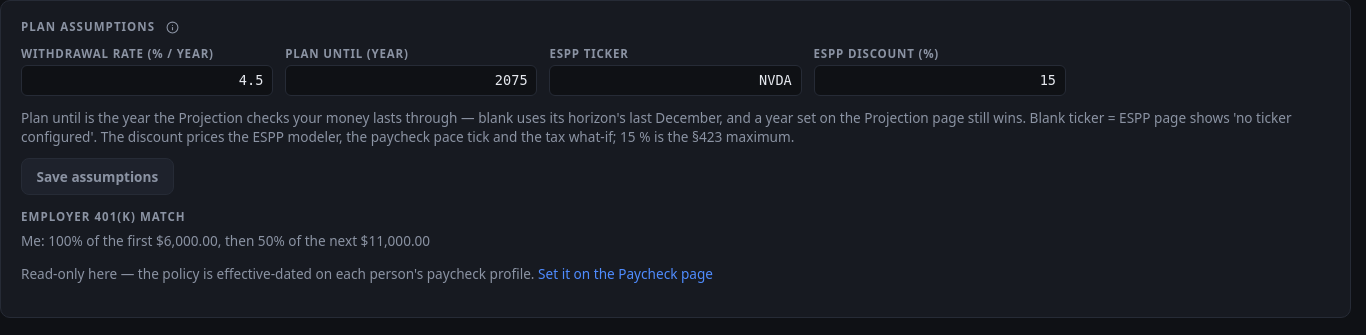
Scenario: PlanAssumptionsCard › refuses exponent text and out-of-range values without spending a request
Expected: the field labelled "ESPP ticker" is shown, [549, 65, 802, 96]
Replace the text in the field labelled "Withdrawal rate (% / year)" with "1e3". click: [147, 80]
box: [21, 65, 273, 96]
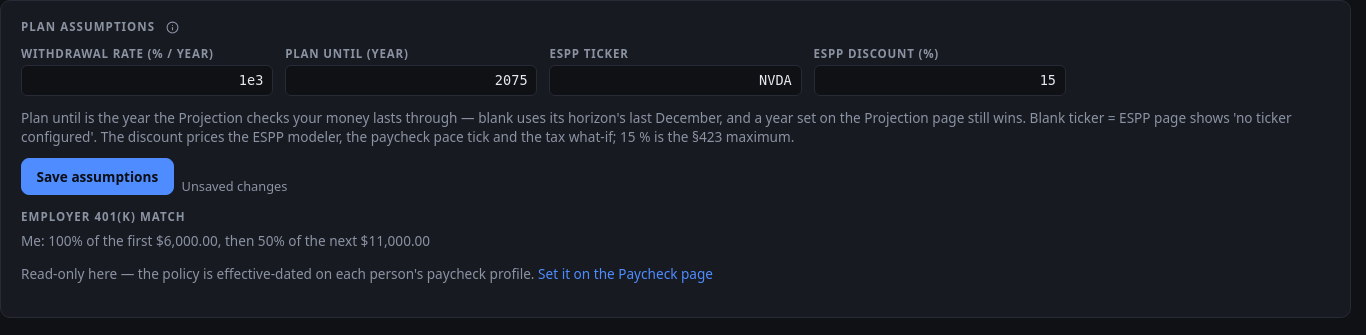
Click the button "Save assumptions". click: [97, 176]
box: [21, 158, 174, 195]
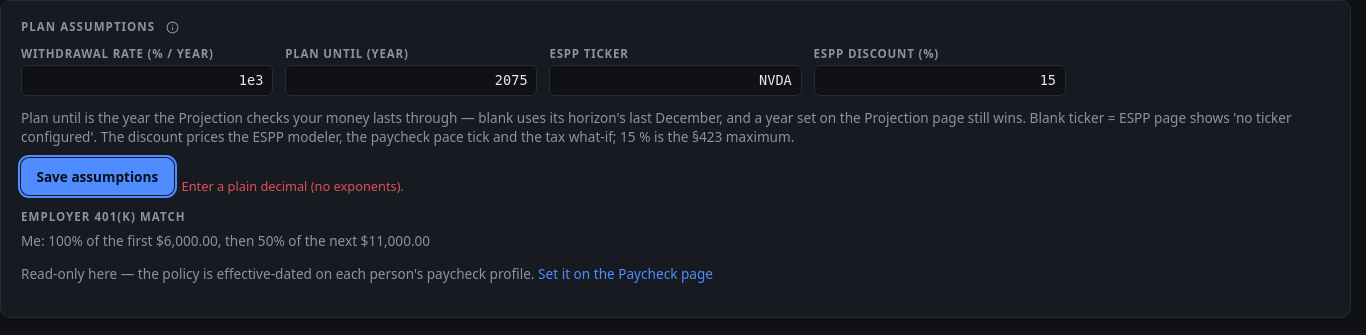
Result: the text "Enter a plain decimal (no exponents)." is shown at [182, 178, 404, 195]
Replace the text in the field labelled "Withdrawal rate (% / year)" with "150". click: [147, 80]
box: [21, 65, 273, 96]
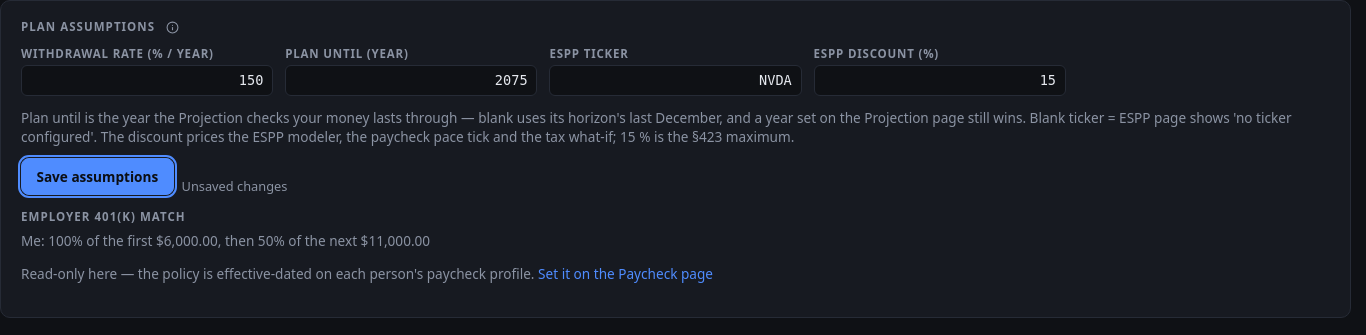
Click the button "Save assumptions". click: [97, 176]
box: [21, 158, 174, 195]
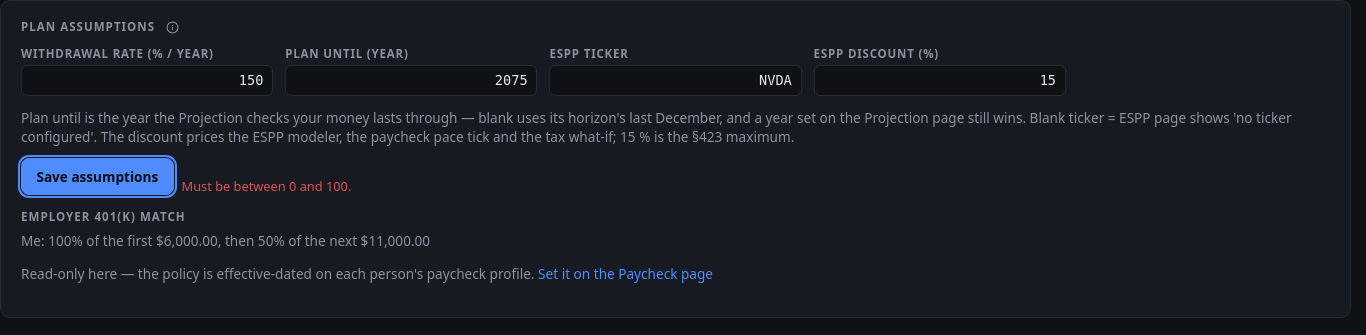
Result: the text "Must be between 0 and 100." is shown at [182, 178, 351, 195]
Replace the text in the field labelled "Withdrawal rate (% / year)" with "4". click: [147, 80]
box: [21, 65, 273, 96]
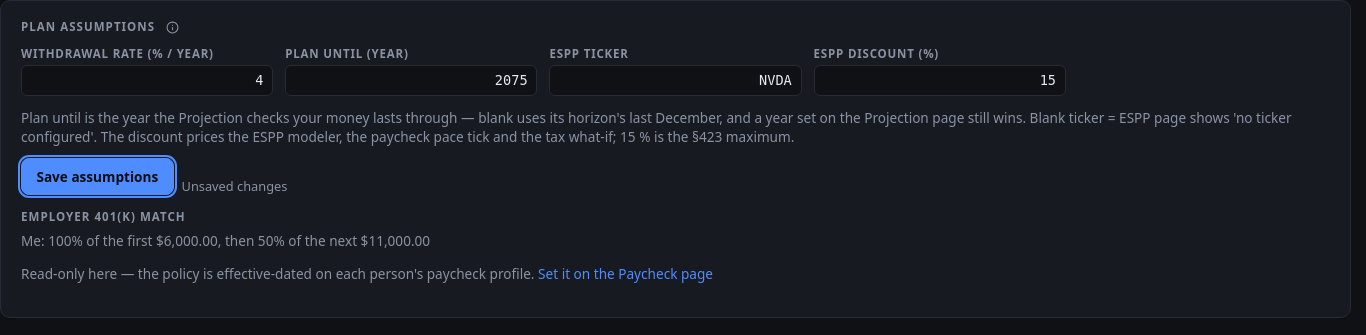
Replace the text in the field labelled "ESPP discount (%)" with "20". click: [940, 80]
box: [814, 65, 1066, 96]
Click the button "Save assumptions". click: [97, 176]
box: [21, 158, 174, 195]
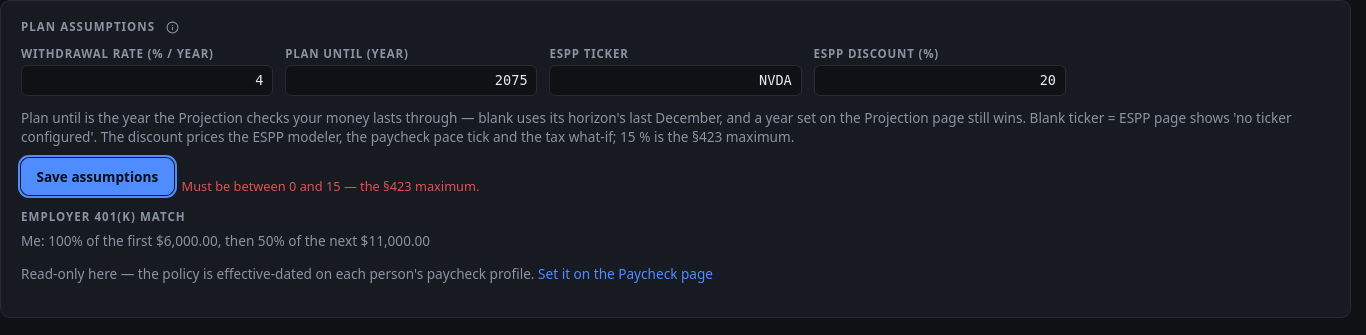
Result: the text "Must be between 0 and 15 — the §423 maximum." is shown at [182, 178, 479, 195]
